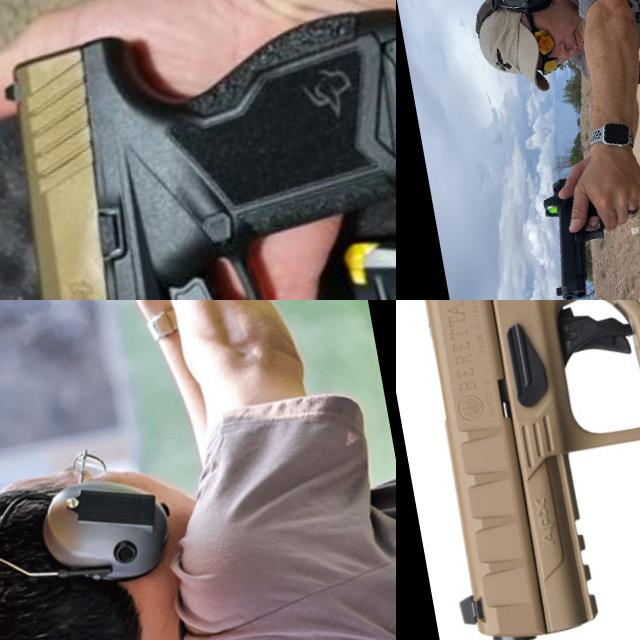handgun: (0, 0, 396, 300), (396, 300, 640, 640), (533, 167, 617, 300), (13, 300, 112, 382)
